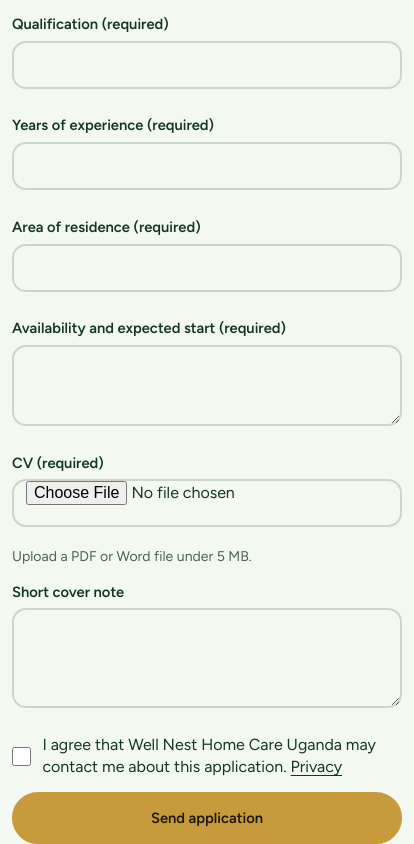
ApplicationForm › requires a selected CV before submitting
The width and height of the screenshot is (414, 844).
(page scrolled)
Click the button "Send application": {"x": 207, "y": 818} [12,792,402,843]
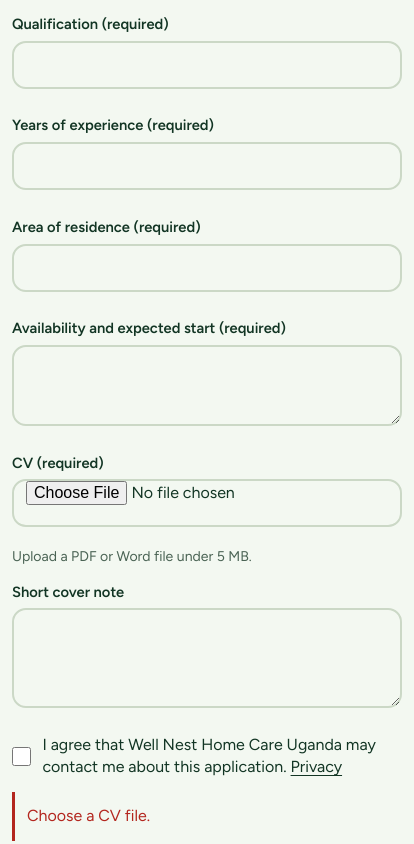
Expected: the message reads "Choose a CV file.", [27,806,150,825]
